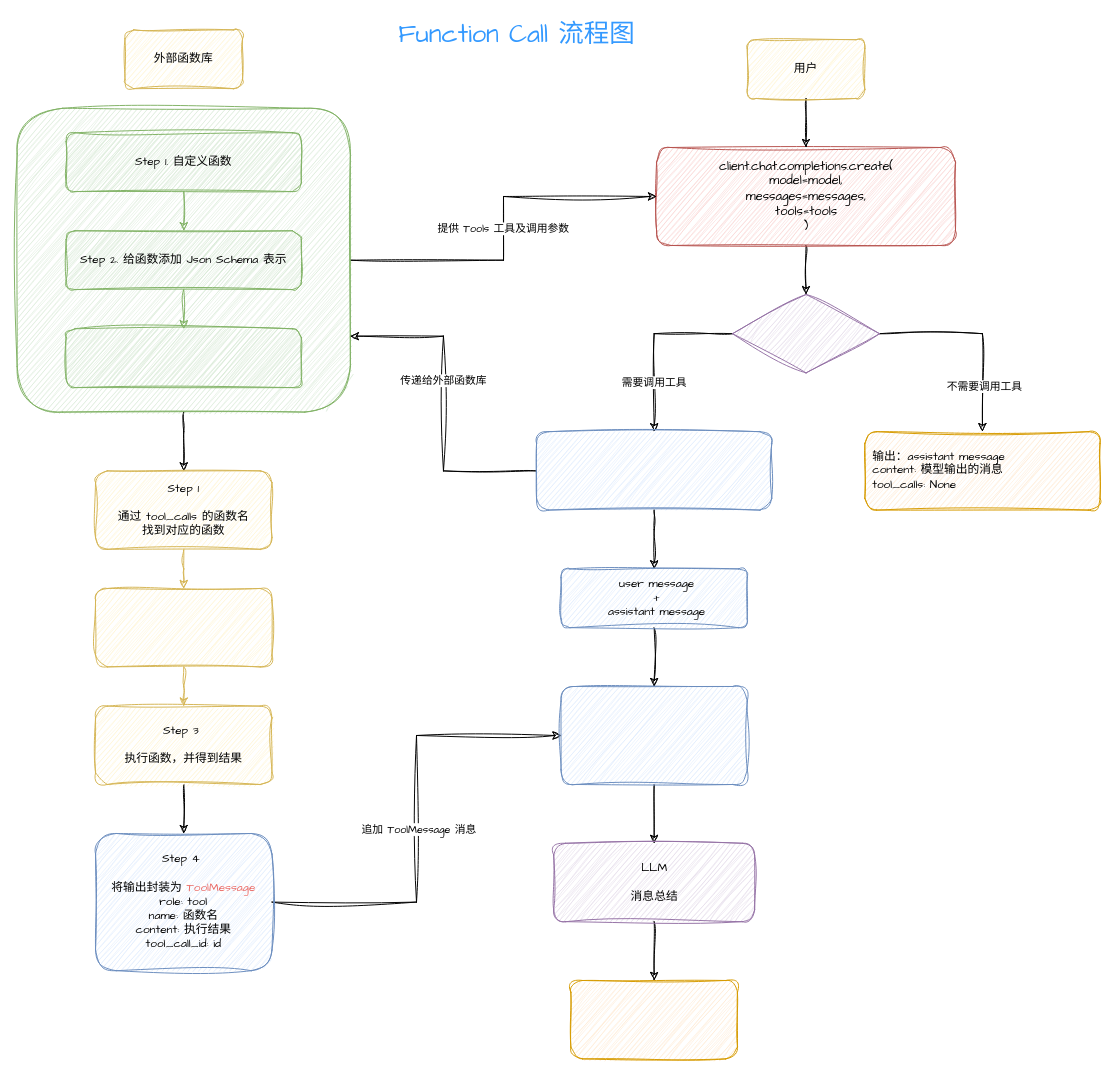
This 1117x1076 diagram has some shape labels left out. Here are the shapes that lost their labels. From the top down, the centre of each, then its label:
[806,333]: 是否需要 调用外部函数
[183,358]: Step 3. 创建 Tool-List 列表
[654,470]: 输出：assistant message content: None tool_calls: 包括调用函数的名称和参数
[183,627]: Step 2 将 tool_calls 提供的参数 传递给对应的函数
[653,735]: user message + assistant message + tool message
[653,1019]: 输出：Final Answer
